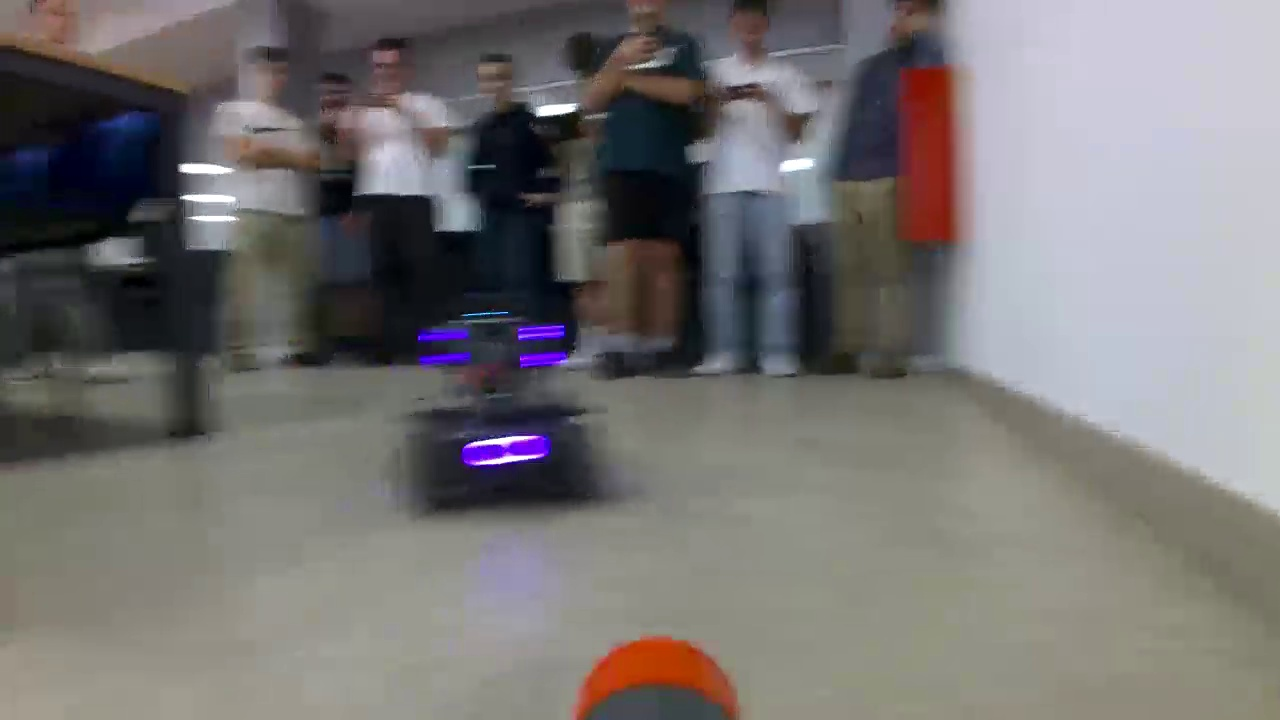robot: (390, 313, 607, 520)
